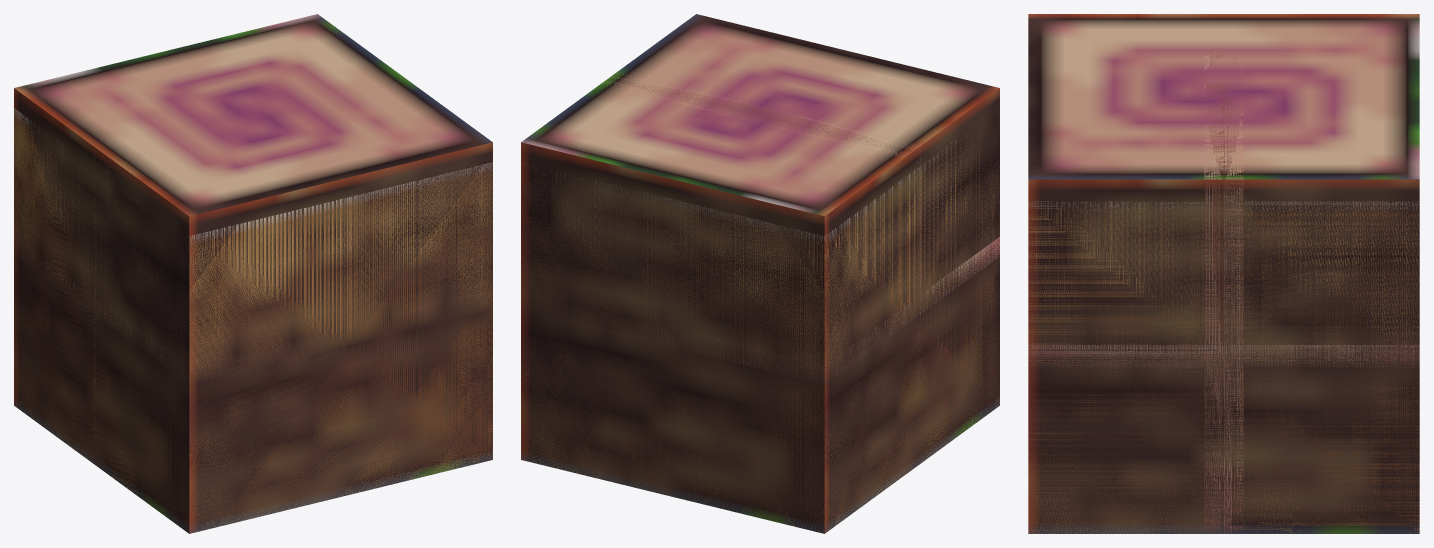
File: VoxelBlock.fbx
3 renders of one model, left to right at view 1: azimuth 30°, elevation 25°; view 2: azimuth 150°, elevation 25°; view 3: azimuth 270°, elevation 25°, orthographic. The views are drawn at different scales.
Parts seen in each view (by area): view 1: Cherry_Log, Dirt_Part; view 2: Cherry_Log, Dirt_Part, Oak_Top_Door, Cherry_Trap_Door, Acacia_Trap_Door; view 3: Cherry_Log, Dirt_Part, Cherry_Bottom_Door, Cherry_Trap_Door, Acacia_Bottom_Door, Oak_Top_Door.
Part boxes in pixels (<box>): Cherry_Log: <box>14,14,492,533</box>; Dirt_Part: <box>14,108,492,532</box>; Cherry_Log: <box>521,14,999,533</box>; Dirt_Part: <box>521,138,999,533</box>; Oak_Top_Door: <box>610,78,911,151</box>; Cherry_Trap_Door: <box>613,237,999,383</box>; Acacia_Trap_Door: <box>597,239,999,383</box>; Cherry_Log: <box>1028,14,1419,533</box>; Dirt_Part: <box>1028,201,1419,533</box>; Cherry_Bottom_Door: <box>1204,22,1243,533</box>; Cherry_Trap_Door: <box>1028,345,1419,367</box>; Acacia_Bottom_Door: <box>1204,179,1243,533</box>; Oak_Top_Door: <box>1205,43,1242,179</box>.
Size of the model in its own units: 1 by 1 by 1.
Materials: 1 (1 with a texture image).
